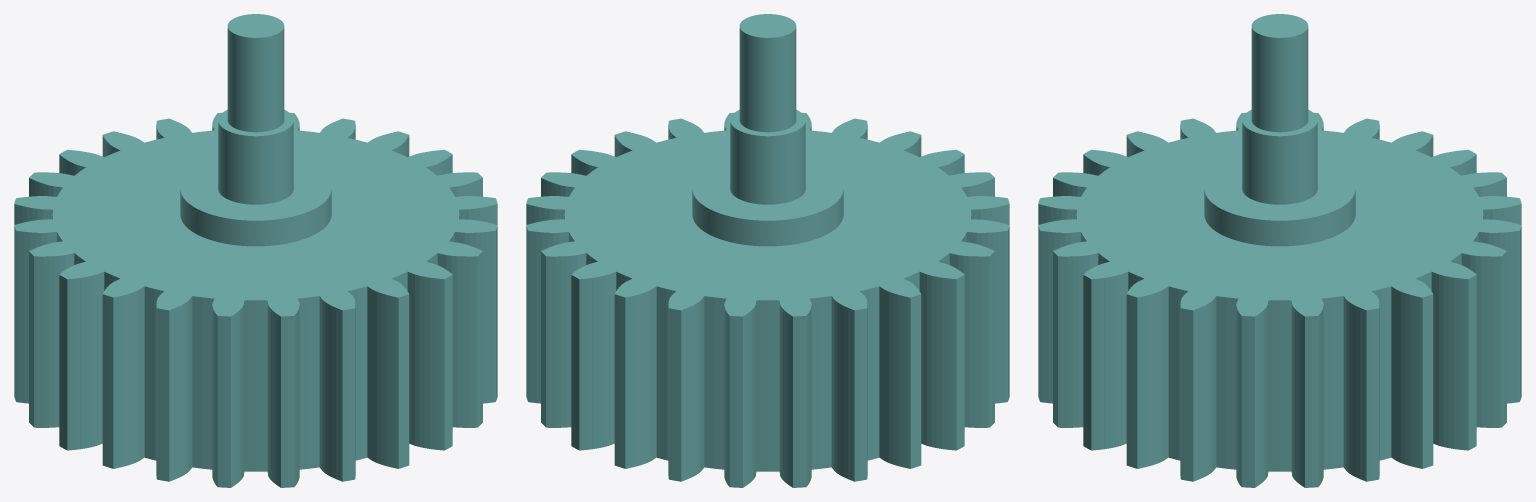
The model's file is step_12.glb.
3 renders of one model, left to right at view 1: azimuth 30°, elevation 25°; view 2: azimuth 150°, elevation 25°; view 3: azimuth 270°, elevation 25°, orthographic.
Visible parts, largest first — view 1: part__planet gear 1; view 2: part__planet gear 1; view 3: part__planet gear 1.
Part boxes in pixels (x1=…): part__planet gear 1: x1=14, y1=14, x2=497, y2=487; part__planet gear 1: x1=526, y1=14, x2=1009, y2=487; part__planet gear 1: x1=1038, y1=14, x2=1521, y2=487.
Bounding box in the file's own units: 25.56 × 21 × 25.56.
